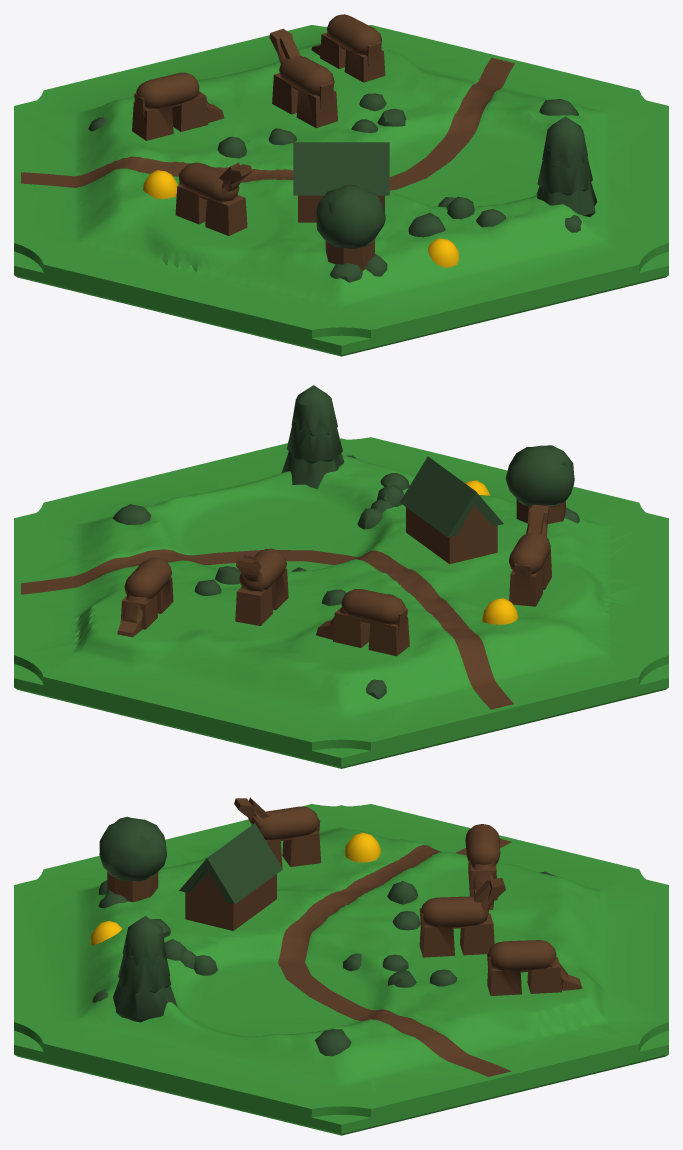
File: weide_2.glb
The picture shows the model from 3 angles, top to bottom: view 1: azimuth 30°, elevation 25°; view 2: azimuth 150°, elevation 25°; view 3: azimuth 270°, elevation 25°; orthographic projection.
Visible parts, largest first — view 1: weide_2; view 2: weide_2; view 3: weide_2.
Boxes of the visible parts, bbox=[...] form: weide_2: bbox=[14, 14, 668, 356]; weide_2: bbox=[14, 385, 668, 768]; weide_2: bbox=[14, 797, 668, 1135].
Bounding box in the file's own units: 65.24 × 11.73 × 56.5.
